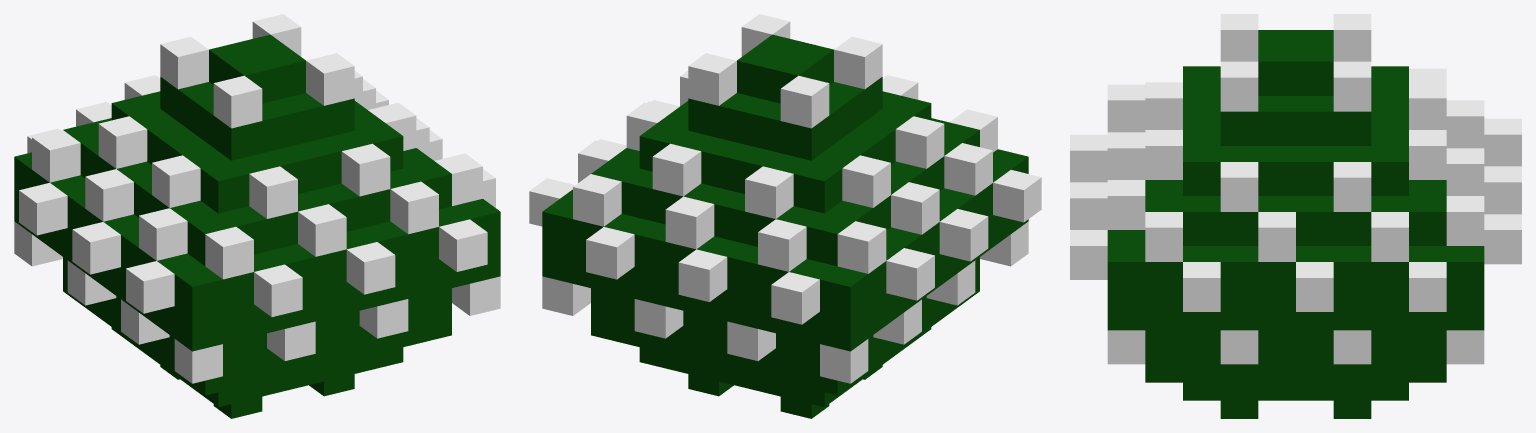
Rendered from 1.2 kaktus.obj.
3 views of the same model, side by side, from view 1: azimuth 30°, elevation 25°; view 2: azimuth 150°, elevation 25°; view 3: azimuth 270°, elevation 25° (orthographic). The views are drawn at different scales.
Size of the model in its own units: 1.2 by 1 by 1.2.
Materials: 1 (1 with a texture image).
